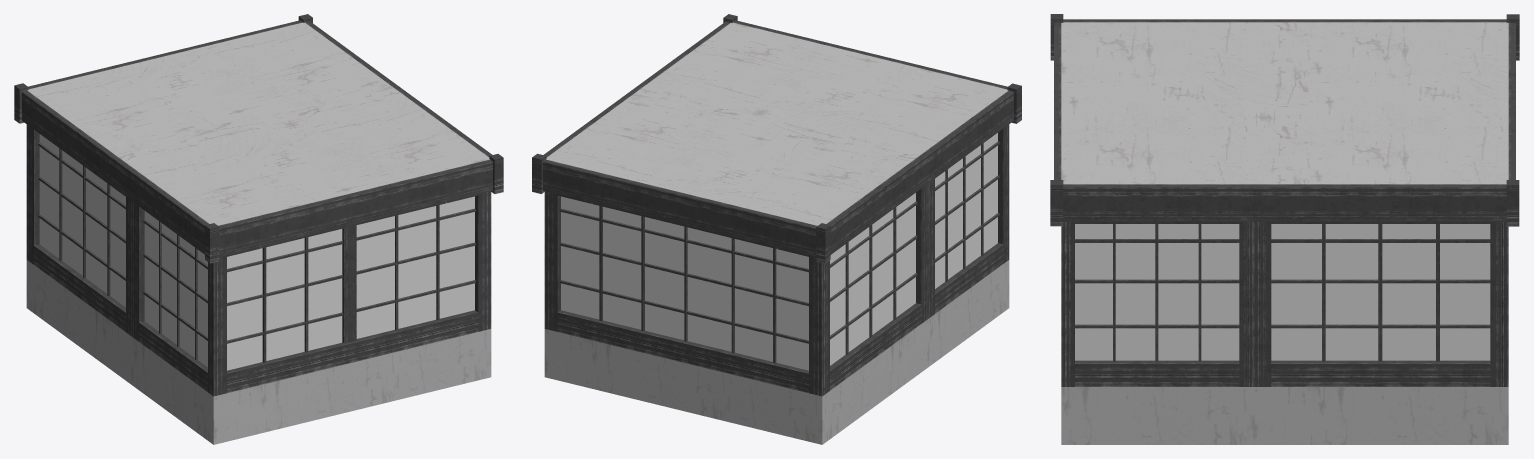
File: CP_Rooftop_Pavilion_01.fbx
3 views of the same model, side by side, from view 1: azimuth 30°, elevation 25°; view 2: azimuth 150°, elevation 25°; view 3: azimuth 270°, elevation 25° (orthographic). The views are drawn at different scales.
Visible parts, largest first — view 1: CP_Rooftop_Pavilion_01; view 2: CP_Rooftop_Pavilion_01; view 3: CP_Rooftop_Pavilion_01.
Part boxes in pixels (x1,y1,x2,y2): CP_Rooftop_Pavilion_01: (14,14,503,444); CP_Rooftop_Pavilion_01: (532,14,1021,444); CP_Rooftop_Pavilion_01: (1050,14,1519,444).
Size of the model in its own units: 635 by 456 by 735.
